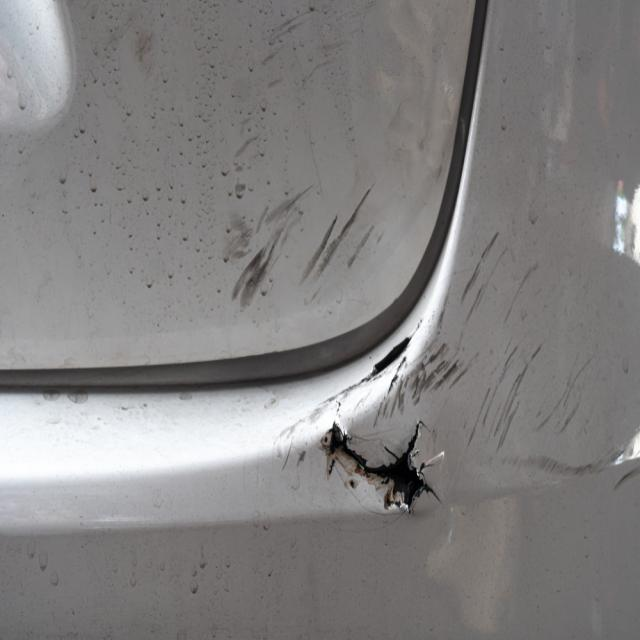crack: (322, 329, 442, 512)
scratch: (381, 221, 640, 497), (214, 171, 405, 306)
